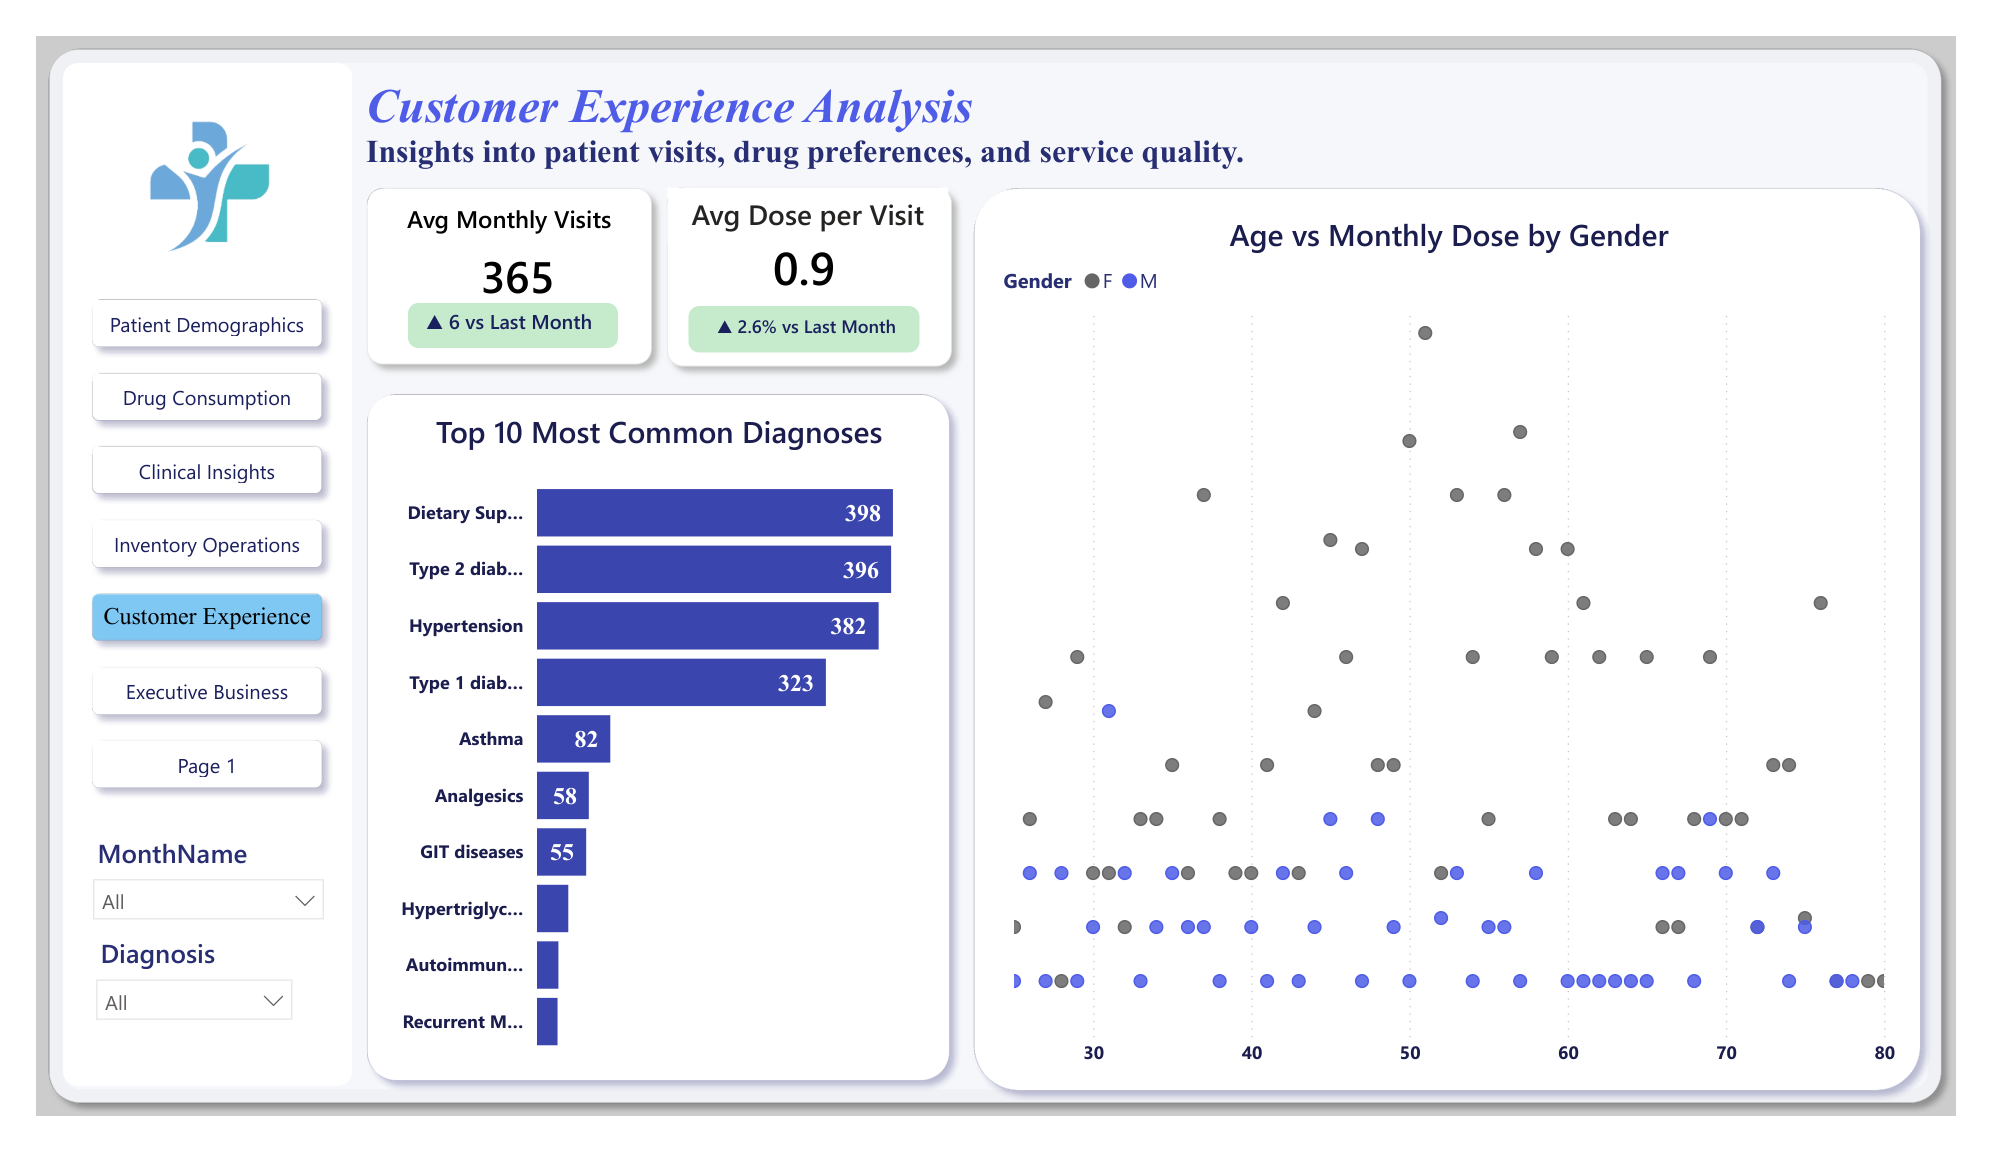

Layout of this report page (visuals, bound fields, positions):
{"tool":"powerbi","page":{"name":"Customer Experience","canvas":[1280,720],"ordinal":4},"visuals":[{"type":"shape","box":[0,0,1279.3,719.9],"z":0},{"type":"shape","box":[411.7,91.7,206.7,136.9],"z":0,"group":"g3"},{"type":"shape","box":[211.7,93.3,206.6,134.7],"z":0,"group":"g5"},{"type":"shape","box":[246.8,177.8,142.2,31.8],"z":0,"group":"g1"},{"type":"shape","box":[433.1,178.9,155.9,32.6],"z":0,"group":"g2"},{"type":"shape","box":[18.3,18.3,192.6,681.7],"z":1000},{"type":"cardVisual","title":"Total Patients","fields":{"Data":["_MeasureTable.Avg Dose per Visit"]},"box":[454.2,125.3,115.4,53.4],"z":1000,"group":"g3"},{"type":"cardVisual","title":"Total Patients","fields":{"Data":["_MeasureTable.Avg Monthly Visits"]},"box":[263.1,131.9,115.6,59.5],"z":1000,"group":"g5"},{"type":"cardVisual","fields":{"Data":["_MeasureTable.Visits Indicator"]},"box":[230.8,150.3,182,89.5],"z":1000,"group":"g1"},{"type":"cardVisual","fields":{"Data":["_MeasureTable.Chronic Indicator"]},"box":[424.5,153.4,180.6,78.3],"z":1000,"group":"g2"},{"type":"image","box":[38.2,36.7,151.3,114.6],"z":2000},{"type":"group","id":"g1","title":"Group 1","box":[230.8,150.3,182,89.5],"z":2000,"group":"g5"},{"type":"group","id":"g2","title":"Group 1","box":[424.5,153.4,180.6,78.3],"z":2000,"group":"g3"},{"type":"textbox","box":[215.4,23.1,1010.8,72.3],"z":3000},{"type":"textbox","box":[420.2,100.9,187.8,38.2],"z":3000,"group":"g3"},{"type":"textbox","box":[226.9,106.6,176.3,38.5],"z":3000,"group":"g5"},{"type":"pageNavigator","box":[29,166.6,169.7,348.5],"z":4000},{"type":"group","id":"g3","title":"Card_3","box":[411.7,91.7,206.7,138.3],"z":5000},{"type":"group","id":"g4","title":"Group 2","box":[616.7,93.3,648.3,618.3],"z":6000},{"type":"group","id":"g5","title":"Card_4","box":[211.7,93.3,206.7,146.7],"z":7000},{"type":"group","id":"g6","title":"Group 2","box":[211.7,230,405,473.3],"z":8000},{"type":"slicer","fields":{"Values":["DimDate.MonthName"]},"box":[27.5,527.3,174.2,67.3],"z":9000},{"type":"slicer","fields":{"Values":["Diagnosis.Diagnosis_Name"]},"box":[29.7,594.3,151.5,93.6],"z":10000},{"type":"shape","box":[616.7,93.3,647.8,618.9],"z":11000,"group":"g4"},{"type":"shape","box":[211.7,230,406.2,475.1],"z":11000,"group":"g6"},{"type":"scatterChart","title":"Age vs Monthly Dose by Gender","fields":{"X":["Patient.Age"],"Y":["Sum(Dispense.Monthly_Amount)"],"Series":["Patient.Gender"]},"box":[639.8,118.2,604.1,578.7],"z":11500,"group":"g4"},{"type":"clusteredBarChart","title":"Top 10 Most Common Diagnoses","fields":{"Category":["Dispense.Diagnosis_Name"],"Y":["CountNonNull(Dispense.Patient_ID)"]},"box":[226.2,249.1,378.8,444.3],"z":11500,"group":"g6"}]}

Visuals, with their boxes in screenshot pixels (x1, y1, x2, y2), scaled from the page's 1280x720 canvas onto the 1992x1152 screenshot:
shape: crop(0, 0, 1991, 1151)
shape: crop(641, 147, 962, 366)
shape: crop(329, 149, 651, 365)
shape: crop(384, 284, 605, 335)
shape: crop(674, 286, 917, 338)
shape: crop(28, 29, 328, 1120)
"Total Patients" cardVisual: crop(707, 200, 886, 286)
"Total Patients" cardVisual: crop(409, 211, 589, 306)
cardVisual - _MeasureTable.Visits Indicator: crop(359, 240, 642, 384)
cardVisual - _MeasureTable.Chronic Indicator: crop(661, 245, 942, 371)
image: crop(59, 59, 295, 242)
"Group 1" group: crop(359, 240, 642, 384)
"Group 1" group: crop(661, 245, 942, 371)
textbox: crop(335, 37, 1908, 153)
textbox: crop(654, 161, 946, 223)
textbox: crop(353, 171, 627, 232)
pageNavigator: crop(45, 267, 309, 824)
"Card_3" group: crop(641, 147, 962, 368)
"Group 2" group: crop(960, 149, 1969, 1139)
"Card_4" group: crop(329, 149, 651, 384)
"Group 2" group: crop(329, 368, 960, 1125)
slicer - DimDate.MonthName: crop(43, 844, 314, 951)
slicer - Diagnosis.Diagnosis_Name: crop(46, 951, 282, 1101)
shape: crop(960, 149, 1968, 1140)
shape: crop(329, 368, 962, 1128)
"Age vs Monthly Dose by Gender" scatterChart: crop(996, 189, 1936, 1115)
"Top 10 Most Common Diagnoses" clusteredBarChart: crop(352, 399, 942, 1109)
